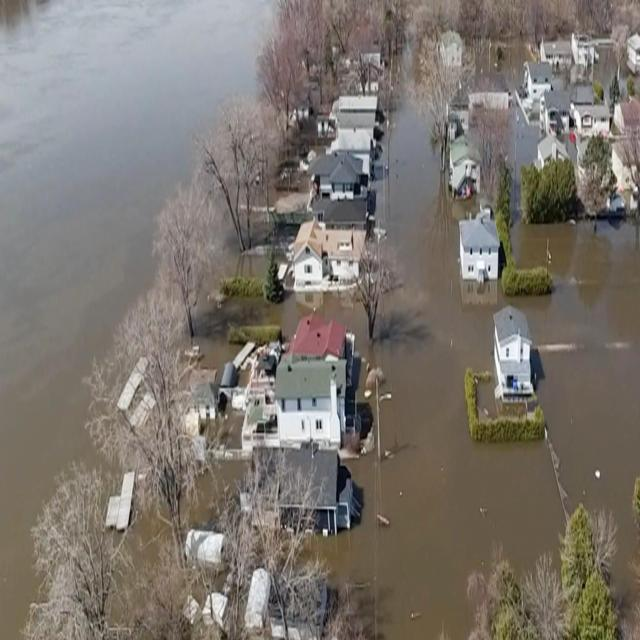flood: (201, 102, 640, 640), (0, 0, 270, 640), (188, 462, 248, 530), (553, 44, 619, 92), (508, 104, 543, 172), (200, 339, 240, 378), (503, 39, 531, 90), (230, 412, 244, 448), (208, 418, 226, 431)
house: (278, 314, 358, 455), (248, 442, 359, 534), (294, 211, 364, 293), (490, 301, 538, 410), (328, 94, 378, 178), (456, 211, 501, 288), (316, 152, 359, 214), (448, 134, 482, 196), (523, 62, 558, 107), (576, 105, 615, 138), (539, 42, 575, 69), (440, 30, 464, 69), (540, 133, 568, 161), (361, 44, 385, 73), (626, 31, 640, 76)
